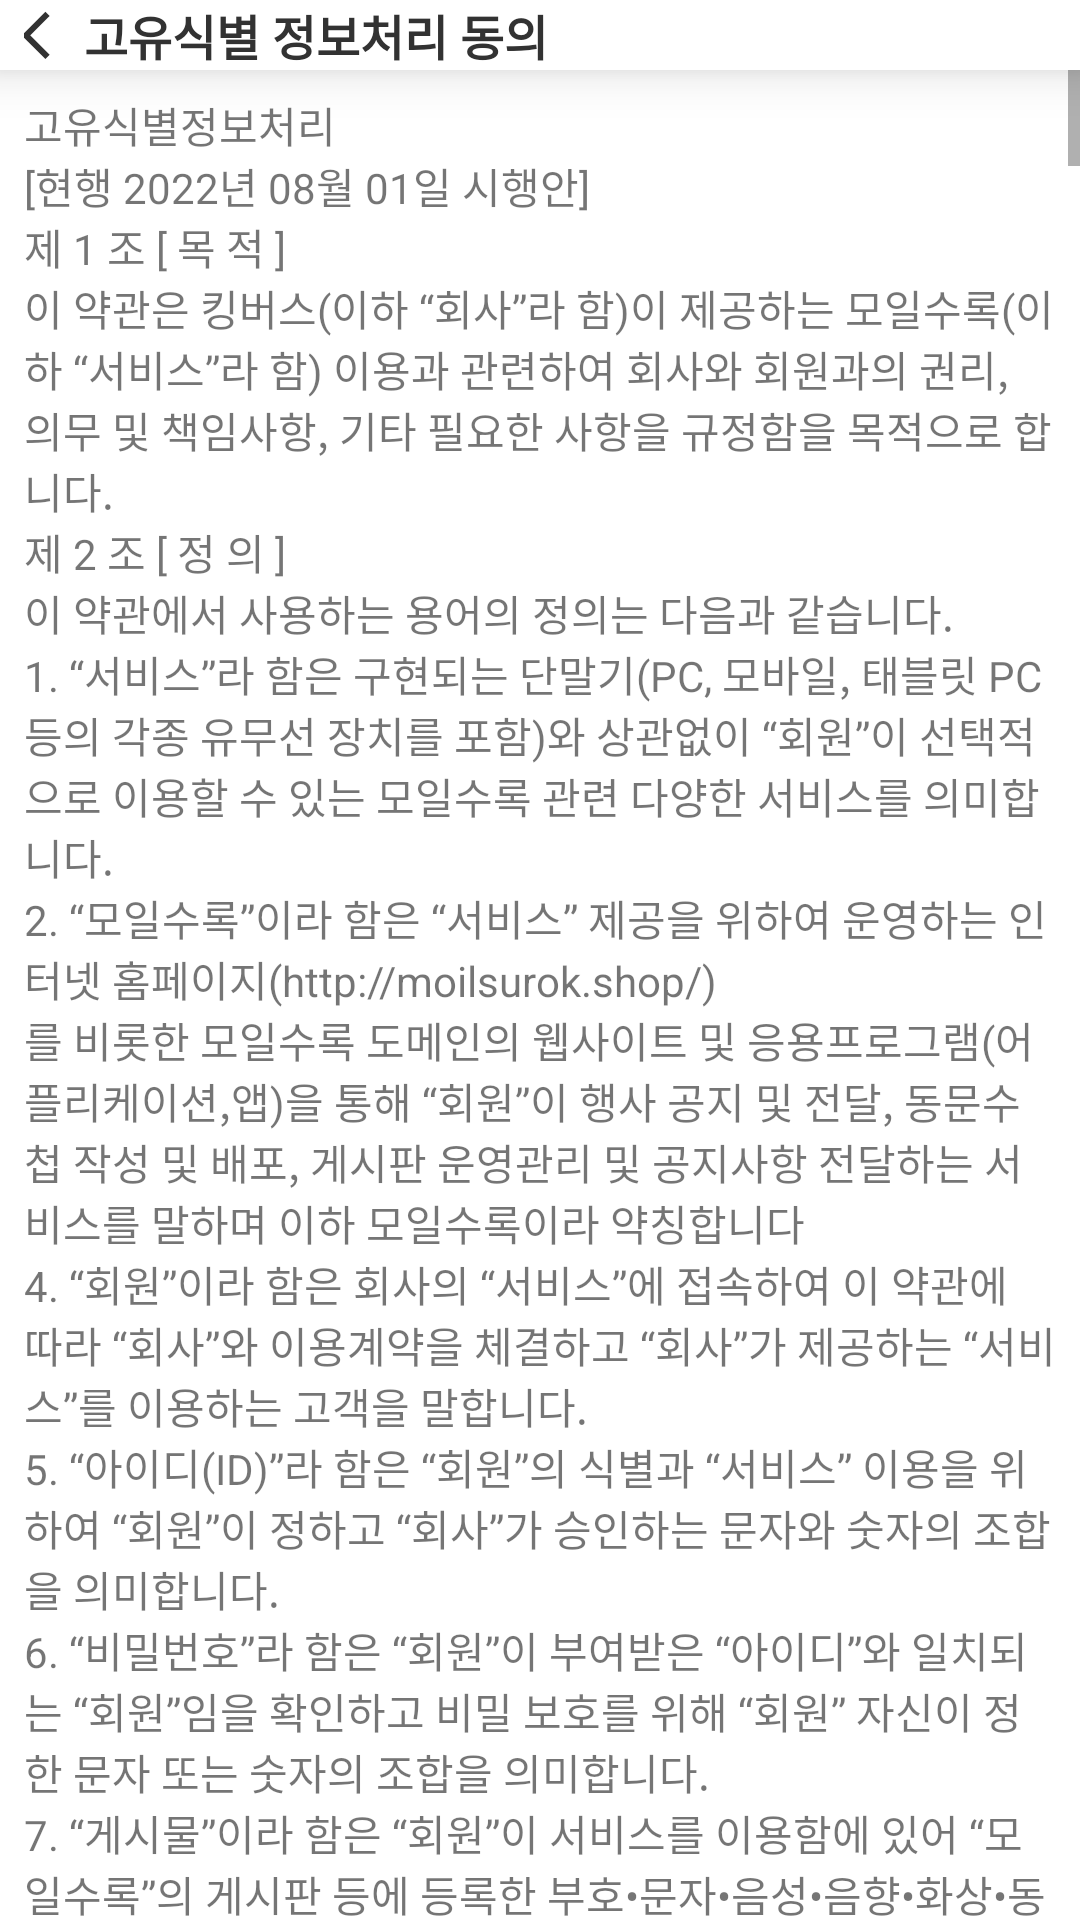

Icon click points for this 1080 x 1920 phone screenshot, format (x,y):
back sharp: (37,35)
